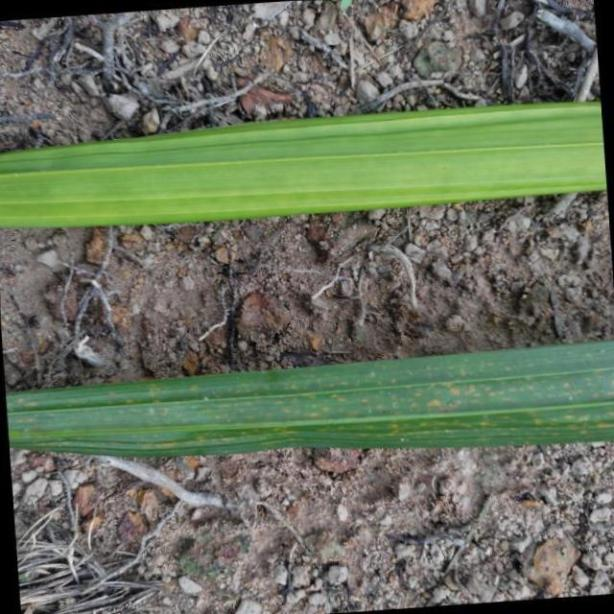nitrogen: (0, 96, 614, 233), (0, 334, 614, 457)
